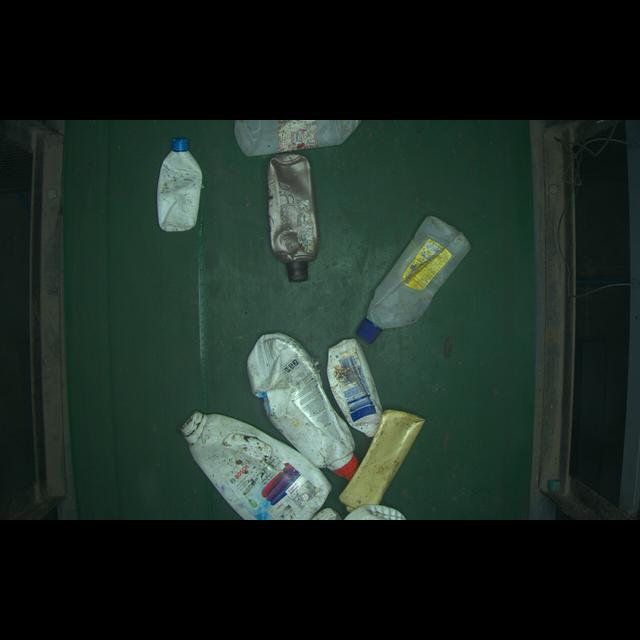mix PET: (166, 403, 331, 536), (347, 203, 485, 351), (240, 326, 368, 474), (248, 150, 346, 286), (313, 334, 416, 432), (351, 410, 428, 508), (148, 129, 209, 240)
